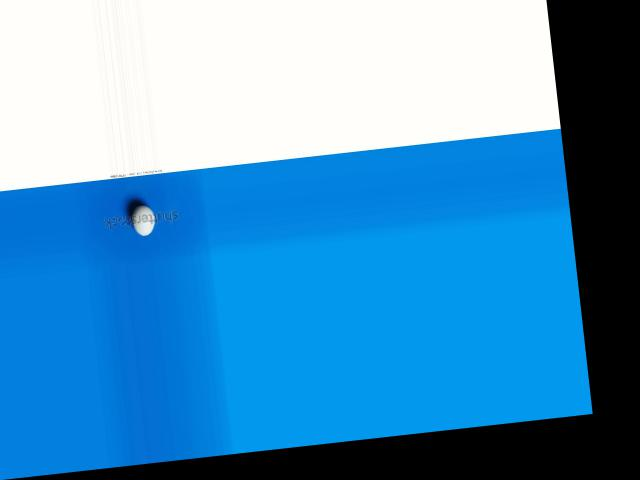egg: (130, 203, 155, 237)
